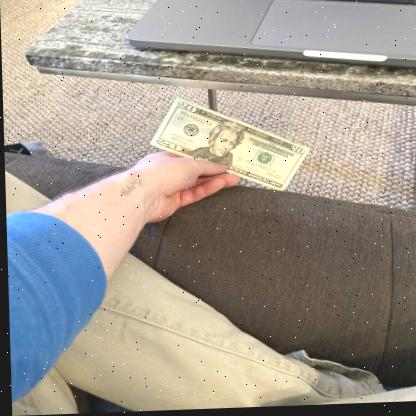twenty-front: (150, 96, 310, 192)
